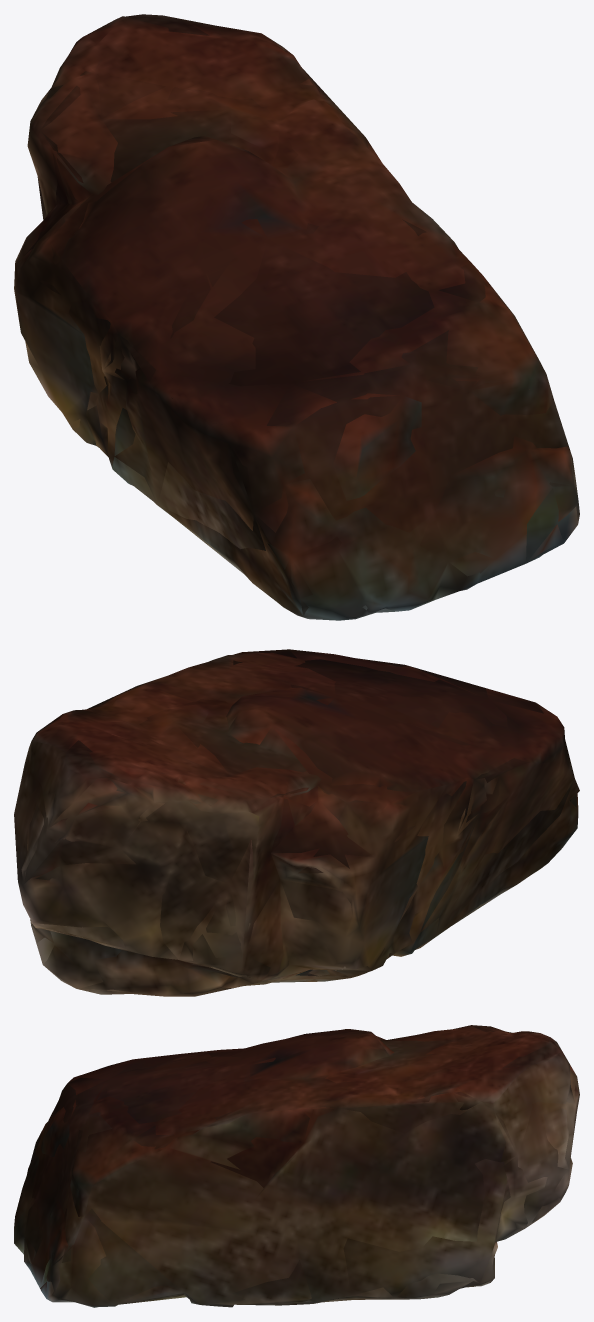
File: rock_07.glb
The picture shows the model from 3 angles, top to bottom: view 1: azimuth 30°, elevation 25°; view 2: azimuth 150°, elevation 25°; view 3: azimuth 270°, elevation 25°; orthographic projection. The views are drawn at different scales.
Parts seen in each view (by area): view 1: rock_07, rock_07_lo; view 2: rock_07, rock_07_lo; view 3: rock_07, rock_07_lo.
Boxes of the visible parts, bbox=[...] form: rock_07: bbox=[14, 14, 579, 620]; rock_07_lo: bbox=[24, 16, 577, 616]; rock_07: bbox=[14, 649, 579, 996]; rock_07_lo: bbox=[14, 649, 577, 995]; rock_07: bbox=[14, 1025, 579, 1307]; rock_07_lo: bbox=[14, 1025, 579, 1305].
Size of the model in its own units: 0.1681 by 0.1434 by 0.3198.
1 material, 1 textured.
